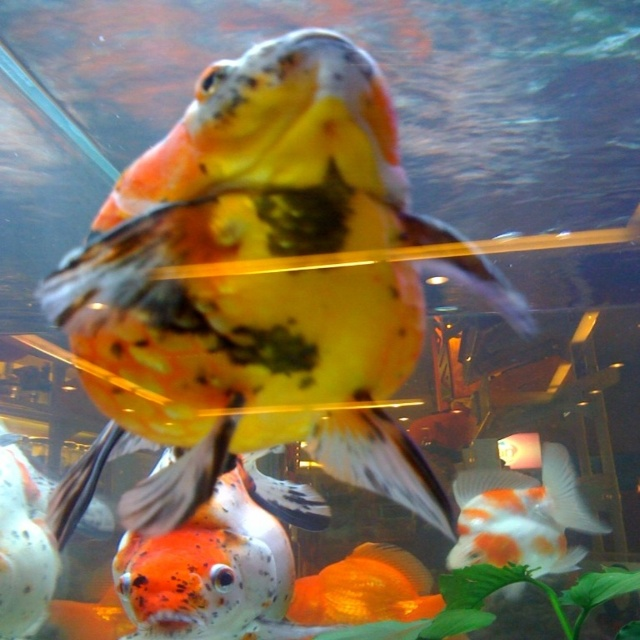Goldfish: (0, 27, 613, 640)
